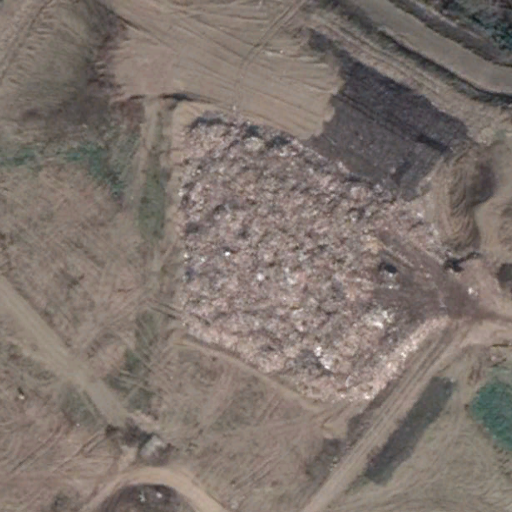msw: (169, 118, 451, 407)
